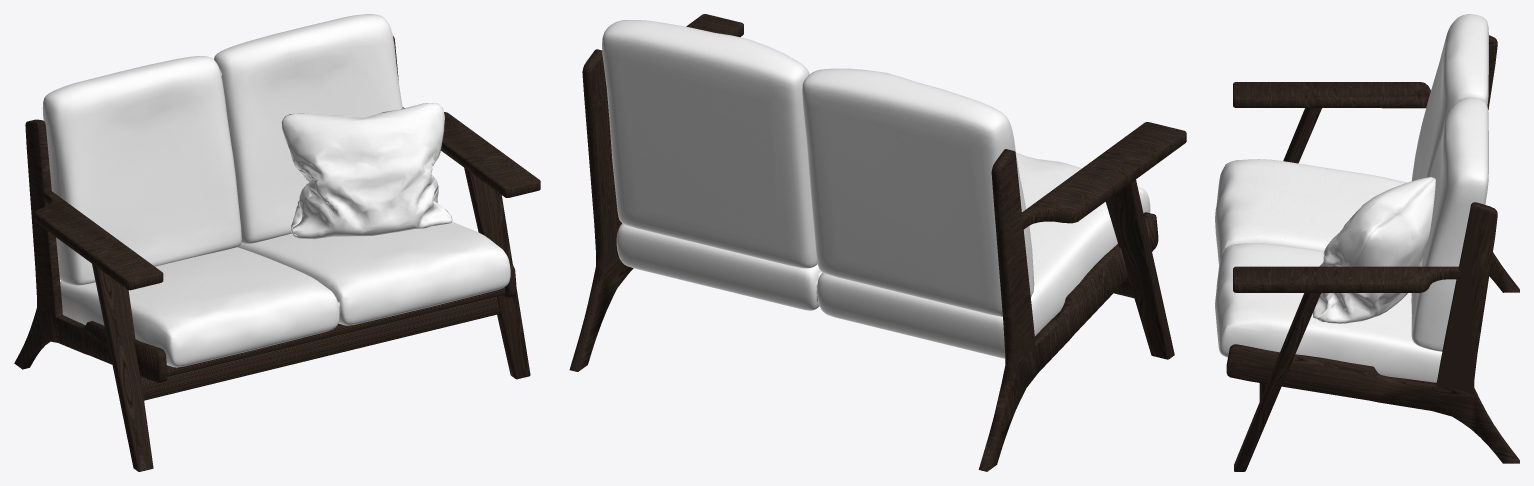
Rendered from test3dmax.glb.
3 views of the same model, side by side, from view 1: azimuth 30°, elevation 25°; view 2: azimuth 150°, elevation 25°; view 3: azimuth 270°, elevation 25° (orthographic). The views are drawn at different scales.
Visible parts, largest first — view 1: Couch.001; view 2: Couch.001; view 3: Couch.001.
Boxes of the visible parts, x1,y1,x2,y2 form: Couch.001: [14, 14, 540, 471]; Couch.001: [569, 14, 1186, 471]; Couch.001: [1215, 14, 1519, 471].
Size of the model in its own units: 109 by 72.73 by 69.29.
Materials: 3 (3 with a texture image).
